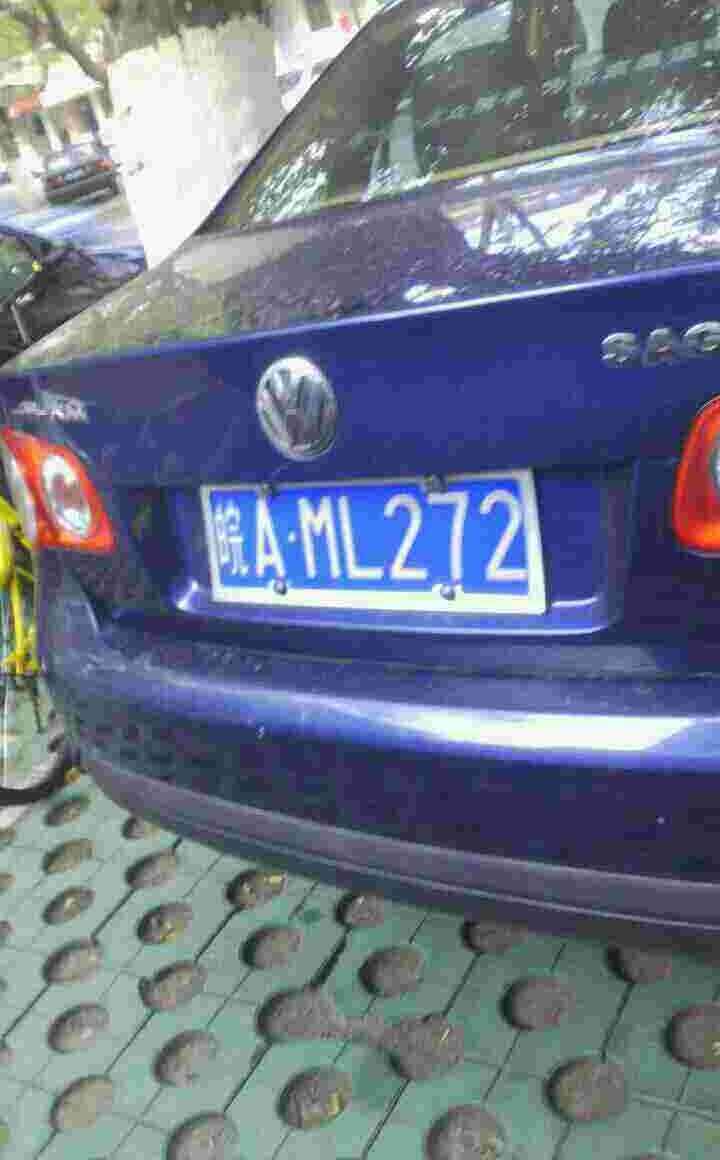license_plate: (207, 484, 530, 601)
